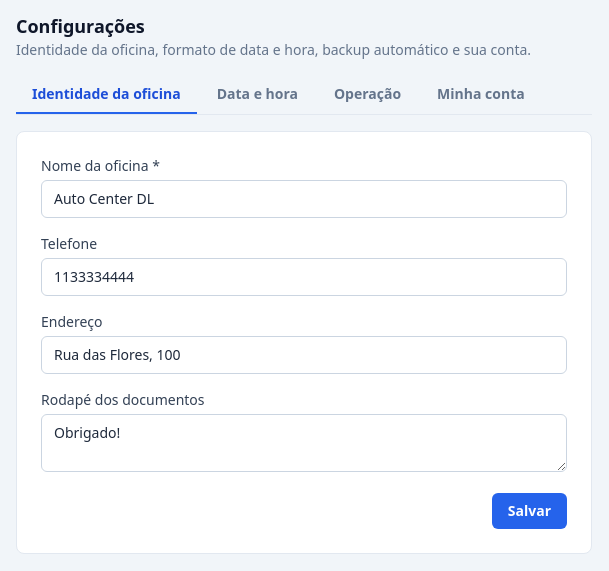
it: SettingsPage tabs (2026-09-18) › shows the signed-in user and a change-password link on the account tab
Click the tab "Minha conta": (481,95) [421,76,541,114]
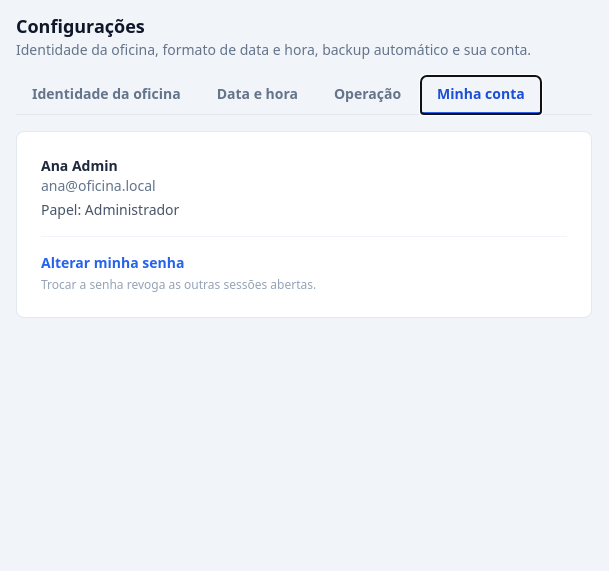
Result: the text "Ana Admin" is shown at [41,156,118,175]
Result: the text "Papel: Administrador" is shown at [41,200,179,219]
Result: the link "Alterar minha senha" is shown at [41,253,184,272]
